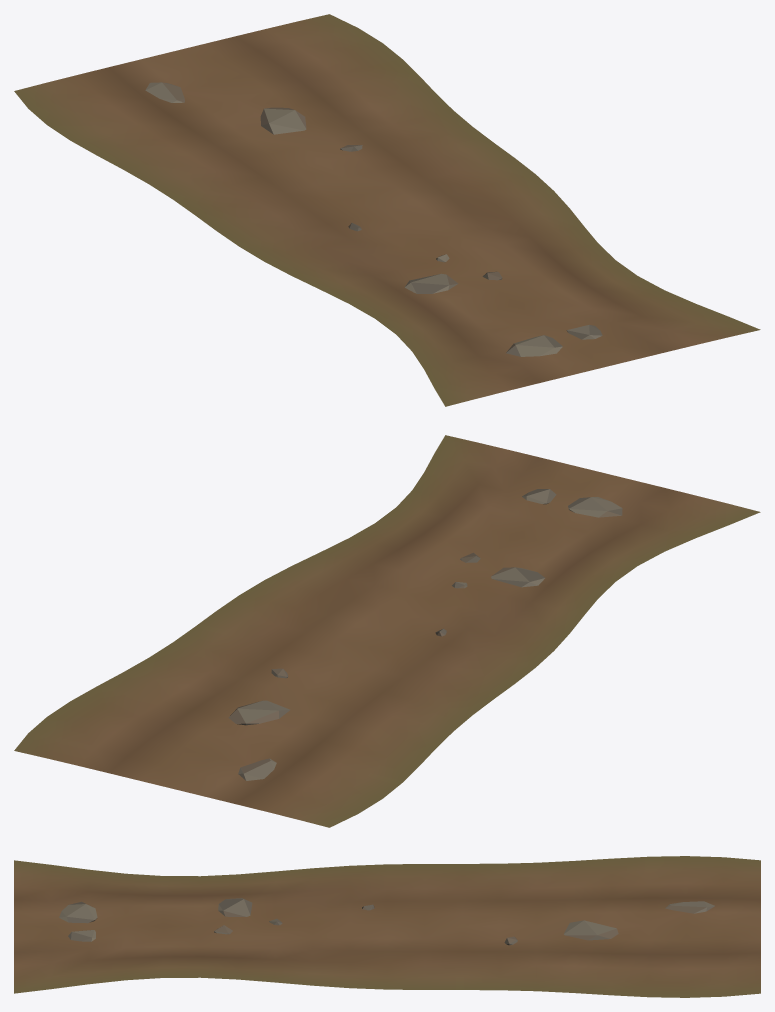
File: path_straight.glb
The picture shows the model from 3 angles, top to bottom: view 1: azimuth 30°, elevation 25°; view 2: azimuth 150°, elevation 25°; view 3: azimuth 270°, elevation 25°; orthographic projection. The views are drawn at different scales.
Visible parts, largest first — view 1: orchard_path_straight_Ground; view 2: orchard_path_straight_Ground; view 3: orchard_path_straight_Ground.
Part boxes in pixels (x1,y1,x2,y2): orchard_path_straight_Ground: (14,14,760,406); orchard_path_straight_Ground: (14,435,760,827); orchard_path_straight_Ground: (14,856,760,997).
Size of the model in its own units: 1.8 by 0.0387 by 4.
